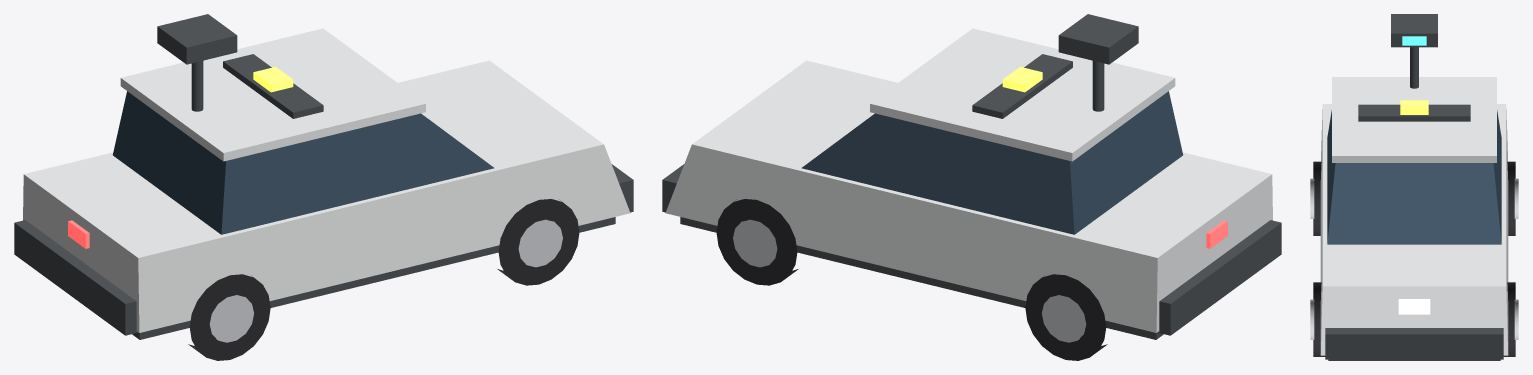
File: inspection.glb
The picture shows the model from 3 angles, left to right: view 1: azimuth 30°, elevation 25°; view 2: azimuth 150°, elevation 25°; view 3: azimuth 270°, elevation 25°; orthographic projection. The views are drawn at different scales.
Parts seen in each view (by area): view 1: RoadGuard inspection unit; view 2: RoadGuard inspection unit; view 3: RoadGuard inspection unit.
Part boxes in pixels (x1,y1,x2,y2): RoadGuard inspection unit: (14, 14, 633, 360); RoadGuard inspection unit: (662, 14, 1281, 360); RoadGuard inspection unit: (1310, 14, 1518, 360).
Size of the model in its own units: 5.02 by 2.6 by 2.22.
